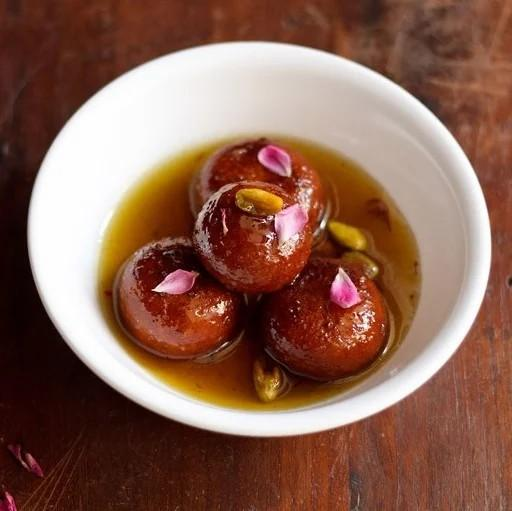GulabJamun: (112, 239, 245, 359), (260, 259, 390, 379), (191, 135, 328, 247), (196, 182, 310, 295)
